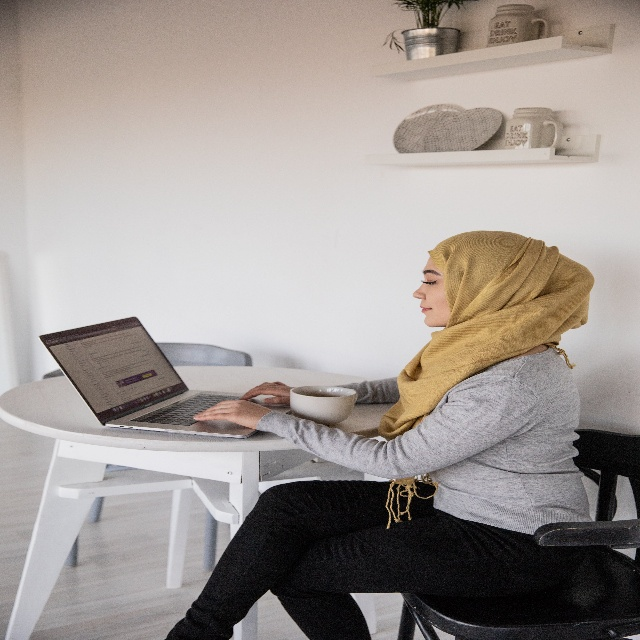Sin_guantes: (192, 398, 269, 430), (240, 381, 295, 404)
